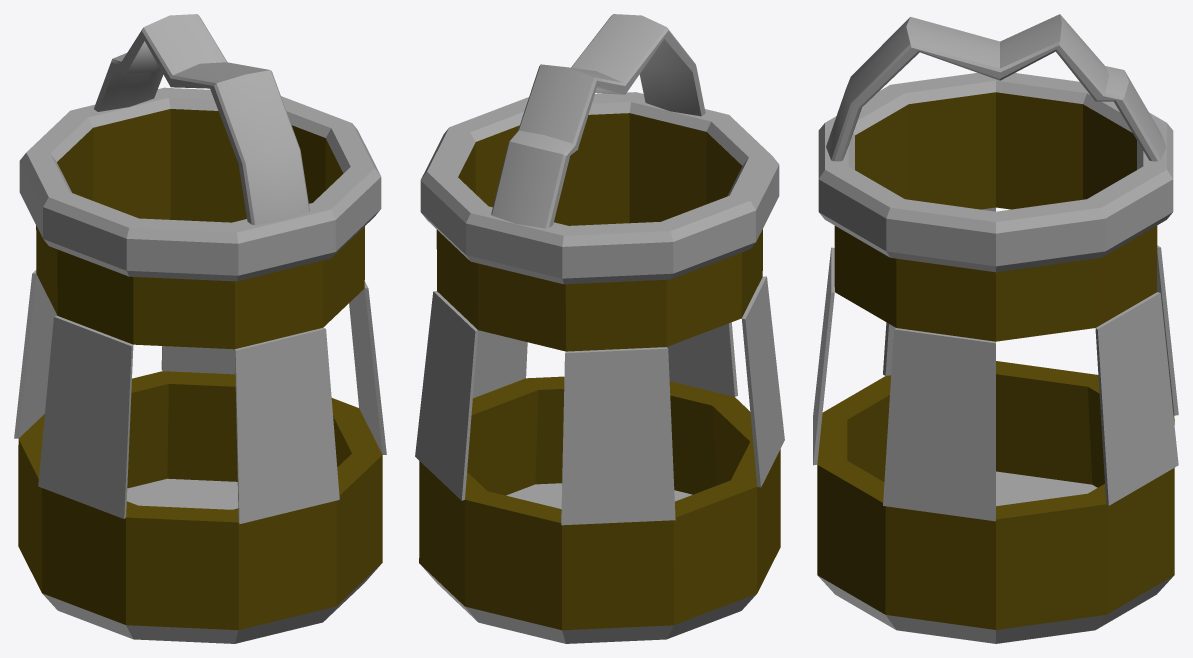
File: BasketMeshWHoles.fbx
3 renders of one model, left to right at view 1: azimuth 30°, elevation 25°; view 2: azimuth 150°, elevation 25°; view 3: azimuth 270°, elevation 25°, orthographic. The views are drawn at different scales.
Visible parts, largest first — view 1: pCylinder53; view 2: pCylinder53; view 3: pCylinder53.
Boxes of the visible parts, <box> form: pCylinder53: <box>14,14,386,643</box>; pCylinder53: <box>415,14,784,643</box>; pCylinder53: <box>813,14,1178,643</box>.
Bounding box in the file's own units: 62.92 × 99.34 × 59.84.
